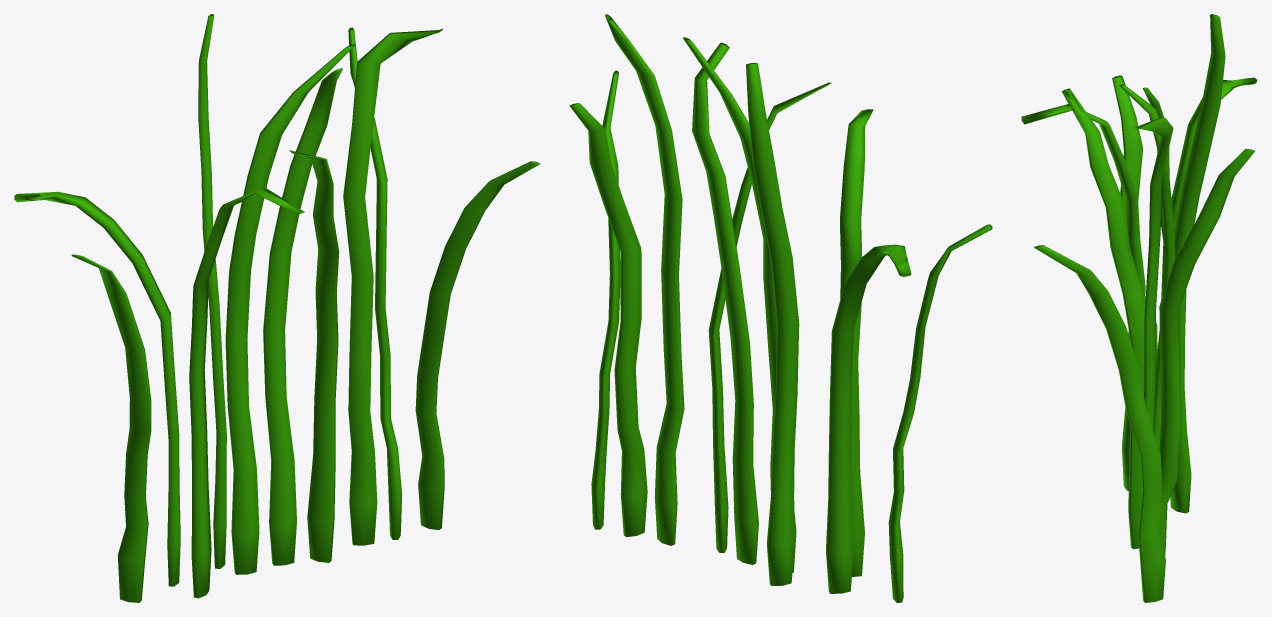
The model's file is grass 1.glb.
3 renders of one model, left to right at view 1: azimuth 30°, elevation 25°; view 2: azimuth 150°, elevation 25°; view 3: azimuth 270°, elevation 25°, orthographic. The views are drawn at different scales.
Parts seen in each view (by area): view 1: Cylinder.015; view 2: Cylinder.015; view 3: Cylinder.015.
Part boxes in pixels (box(x1,y1,x2,y2)): Cylinder.015: box(14, 14, 540, 602); Cylinder.015: box(569, 14, 992, 602); Cylinder.015: box(1021, 14, 1257, 602).
Size of the model in its own units: 0.2003 by 0.2402 by 0.1031.
